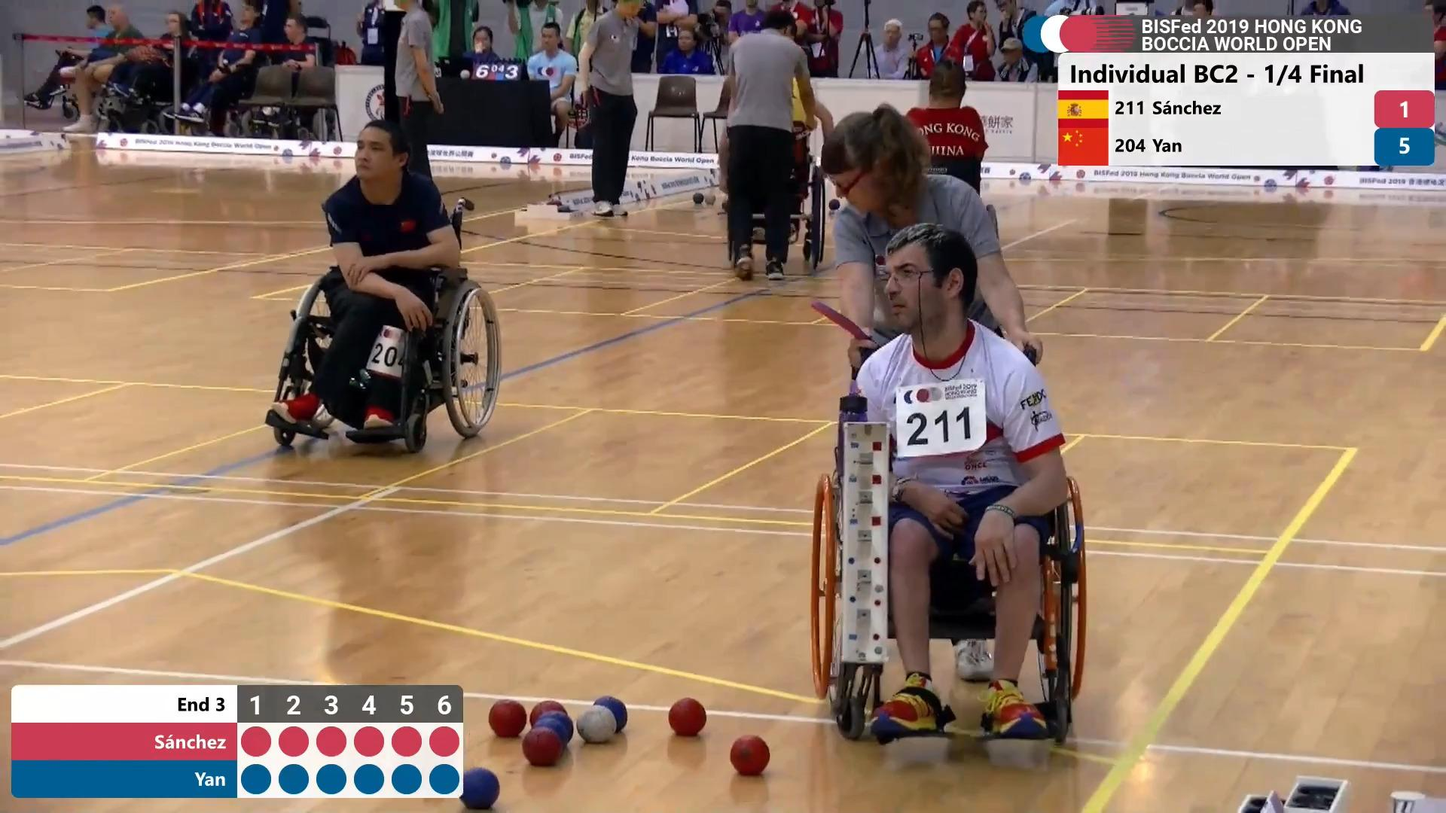blue_ball: (462, 767, 499, 808), (599, 696, 630, 729), (537, 717, 566, 734)
red_ball: (523, 726, 562, 766), (731, 736, 770, 774), (670, 697, 706, 737), (490, 699, 526, 737)
white_ball: (576, 704, 616, 742)
